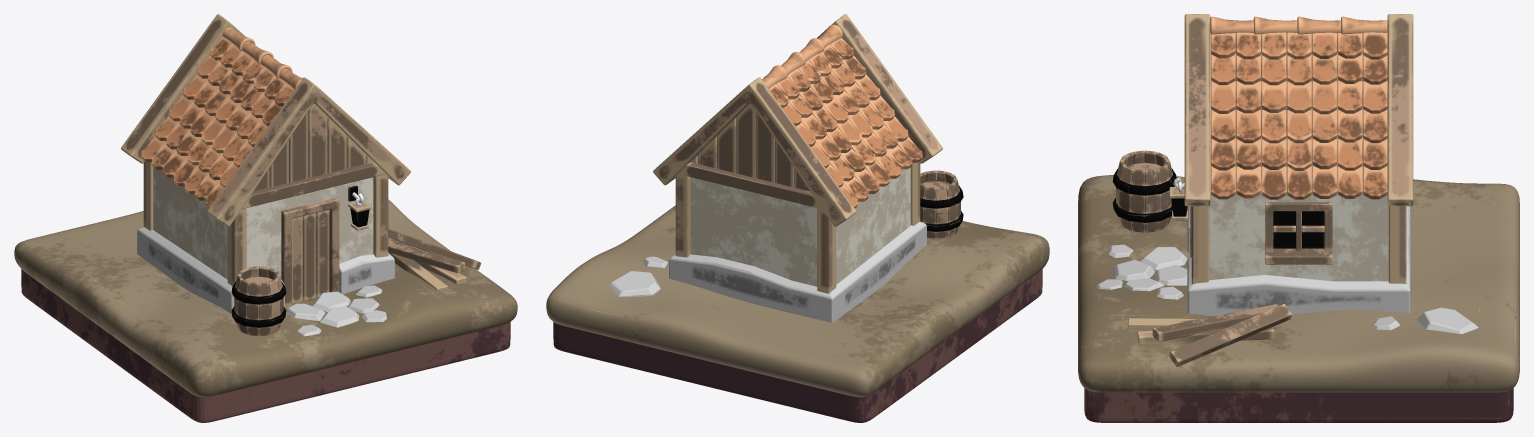
Rendered from 177-medieval-hut.glb.
3 renders of one model, left to right at view 1: azimuth 30°, elevation 25°; view 2: azimuth 150°, elevation 25°; view 3: azimuth 270°, elevation 25°, orthographic. The views are drawn at different scales.
Parts seen in each view (by area): view 1: hut; view 2: hut; view 3: hut.
Part boxes in pixels (bbox=[...]): hut: bbox=[14, 14, 517, 422]; hut: bbox=[546, 14, 1049, 422]; hut: bbox=[1078, 14, 1519, 422].
Bounding box in the file's own units: 9.64 × 7.68 × 9.6.
Materials: 2 (1 with a texture image).
